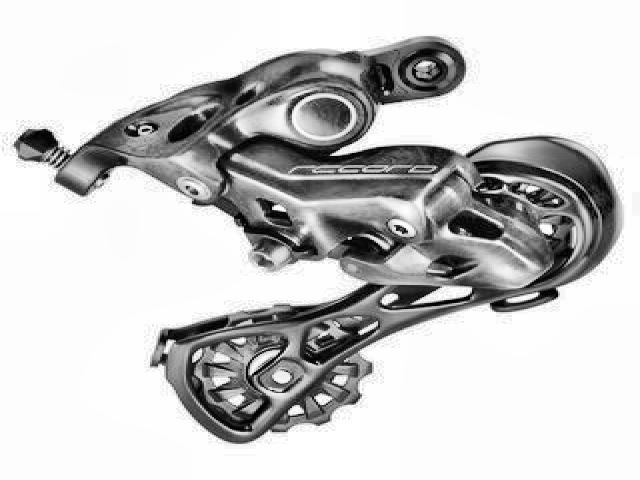rear_derailleur: (13, 24, 624, 450)
